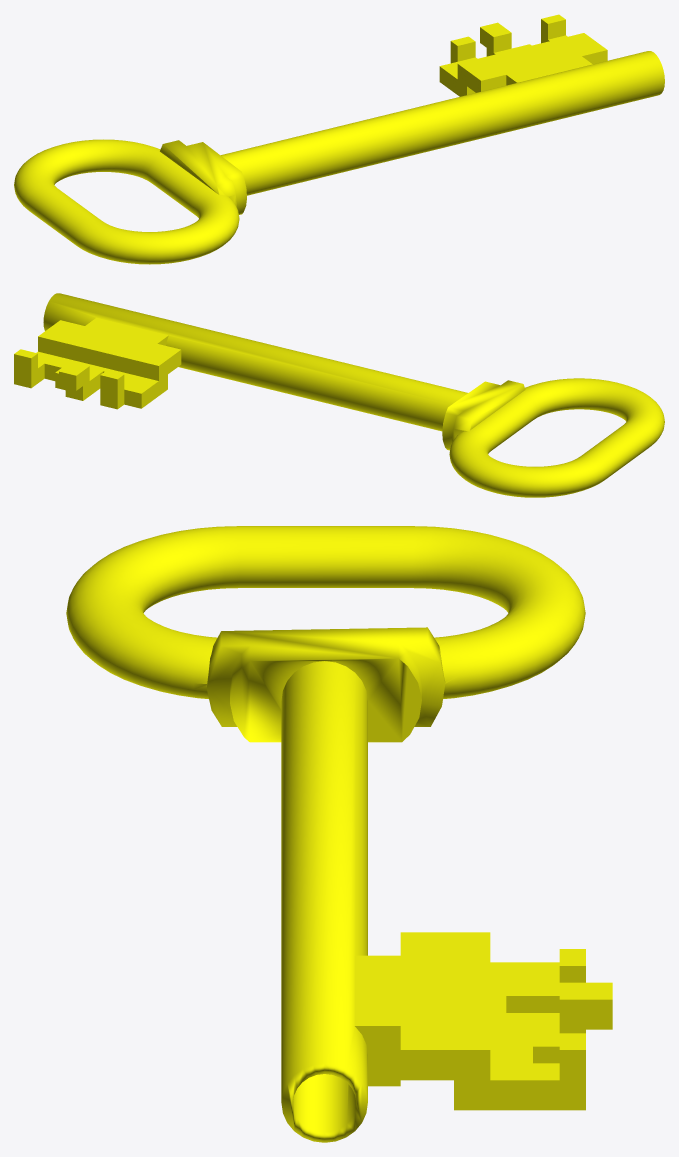
The model's file is yellow key.fbx.
The picture shows the model from 3 angles, top to bottom: view 1: azimuth 30°, elevation 25°; view 2: azimuth 150°, elevation 25°; view 3: azimuth 270°, elevation 25°; orthographic projection. The views are drawn at different scales.
Visible parts, largest first — view 1: Group1; view 2: Group1; view 3: Group1.
Boxes of the visible parts, box(x1,y1,x2,y2) form: Group1: box(14, 14, 664, 264); Group1: box(14, 293, 664, 497); Group1: box(66, 526, 612, 1142).
Bounding box in the file's own units: 7.39 × 0.516 × 3.03.
